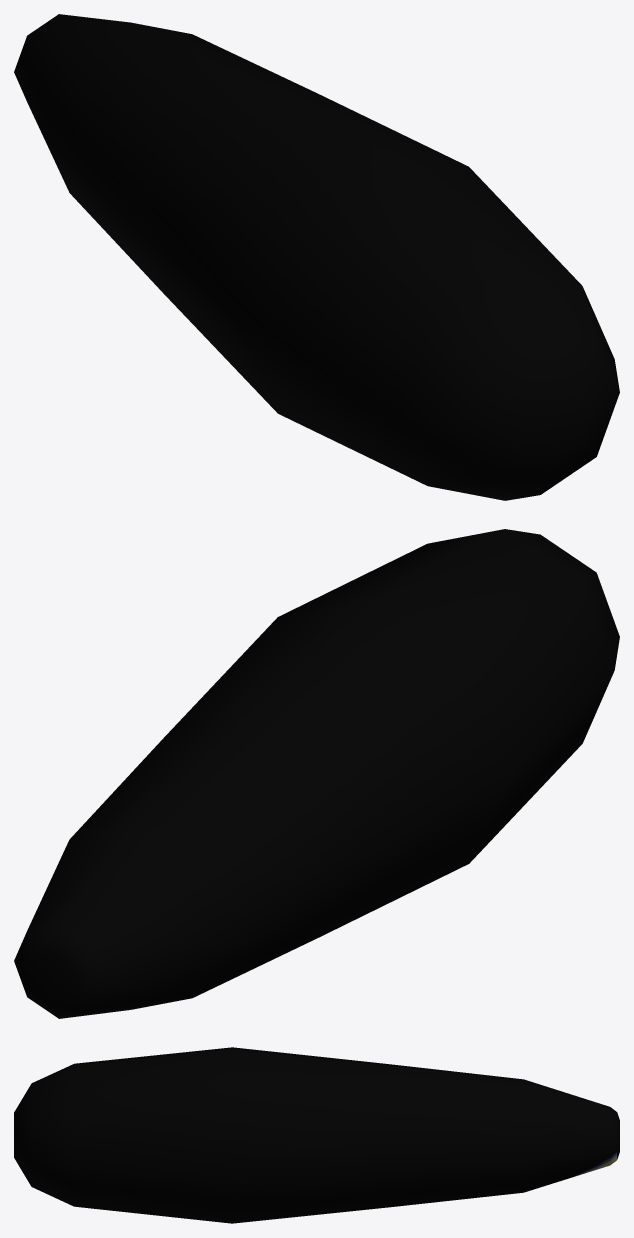
Rendered from CornCob.fbx.
The picture shows the model from 3 angles, top to bottom: view 1: azimuth 30°, elevation 25°; view 2: azimuth 150°, elevation 25°; view 3: azimuth 270°, elevation 25°; orthographic projection. The views are drawn at different scales.
Visible parts, largest first — view 1: Cylinder; view 2: Cylinder; view 3: Cylinder.
Boxes of the visible parts, x1,y1,x2,y2 form: Cylinder: (14,14,619,500); Cylinder: (14,529,619,1018); Cylinder: (14,1047,619,1223).
Bounding box in the file's own units: 247 × 247 × 797.
